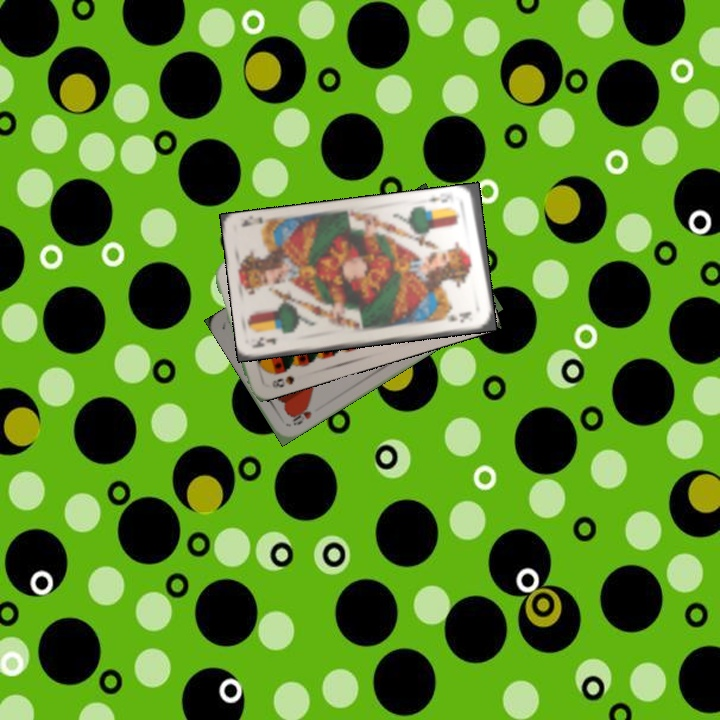EK: (251, 333, 279, 351), (423, 193, 456, 206)
HO: (287, 401, 314, 428)
S8: (268, 372, 297, 391)
